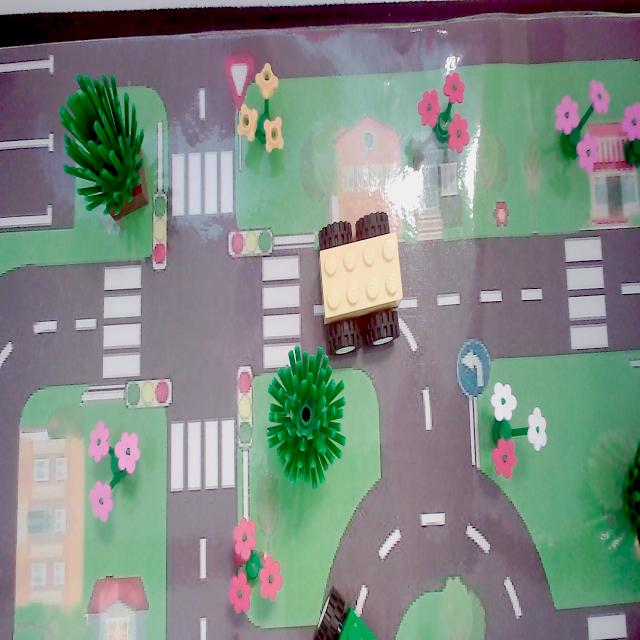Car: (316, 208, 402, 364), (307, 585, 389, 640)
Flower: (80, 415, 152, 521), (549, 70, 613, 183), (485, 376, 548, 484), (232, 56, 292, 160), (415, 61, 473, 166), (225, 514, 284, 616)
Tree: (56, 67, 156, 226), (264, 340, 350, 484)
